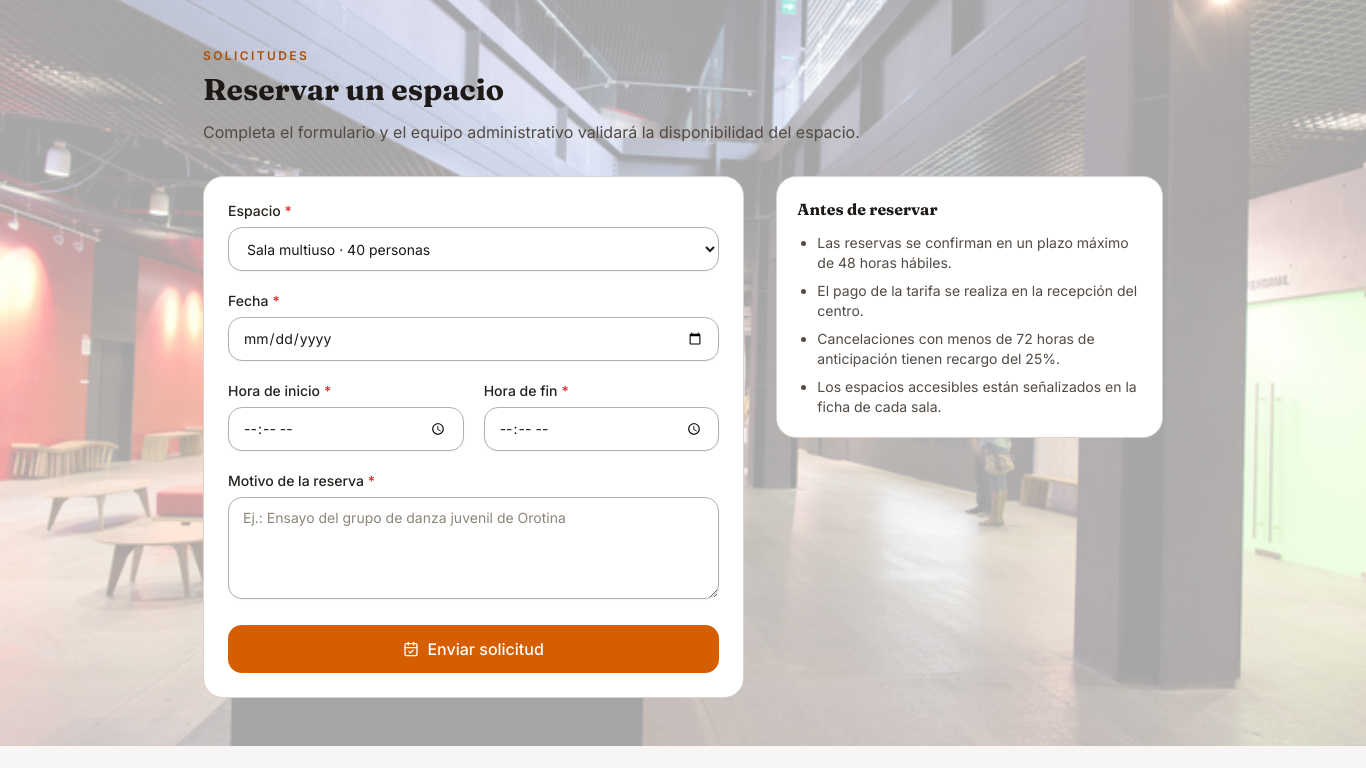
Test: Reservas page › shows the conflict returned by the reservation service
Select "Sala multiuso · 40 personas" in the dropdown labelled "Espacio *". click: [474, 249]
box: [228,227,719,271]
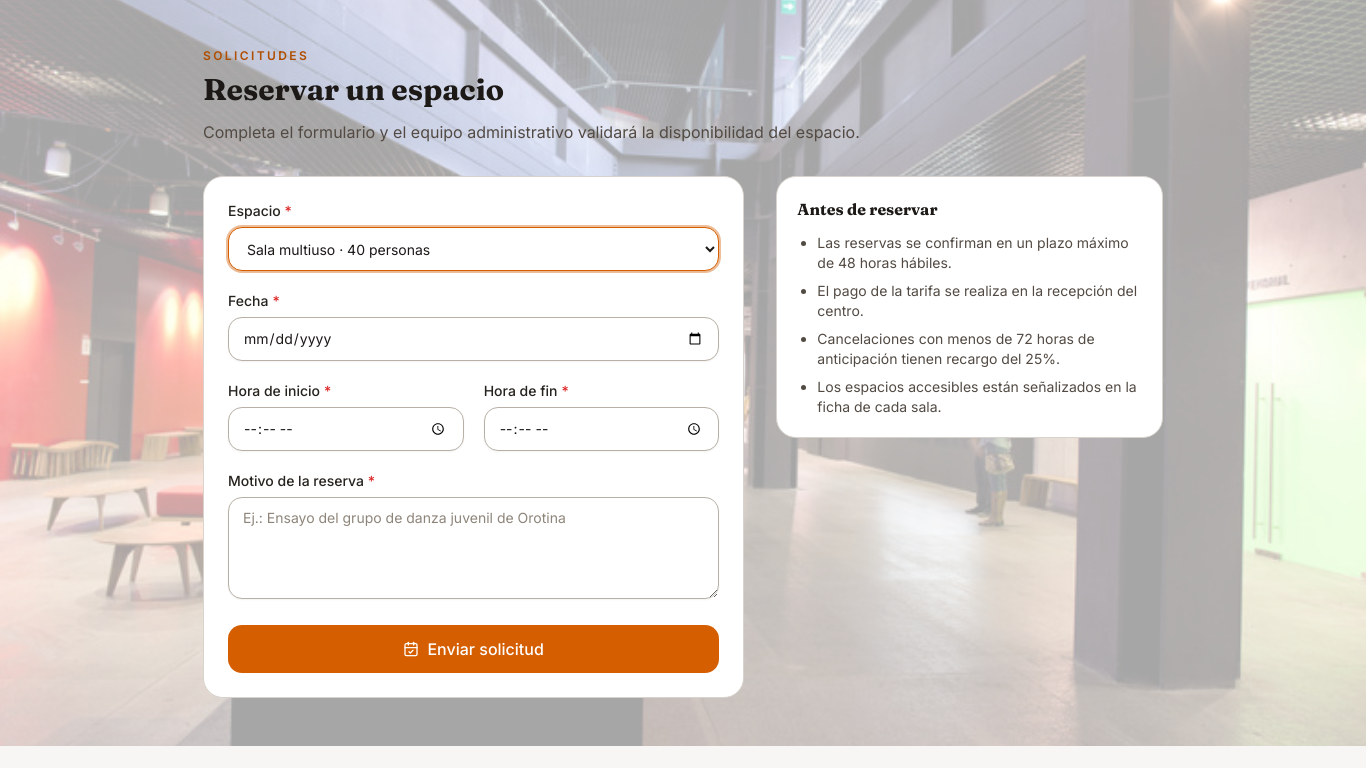
Type "2026-10-12" into the date field labelled "Fecha*". click: [474, 339]
box: [228,317,719,361]
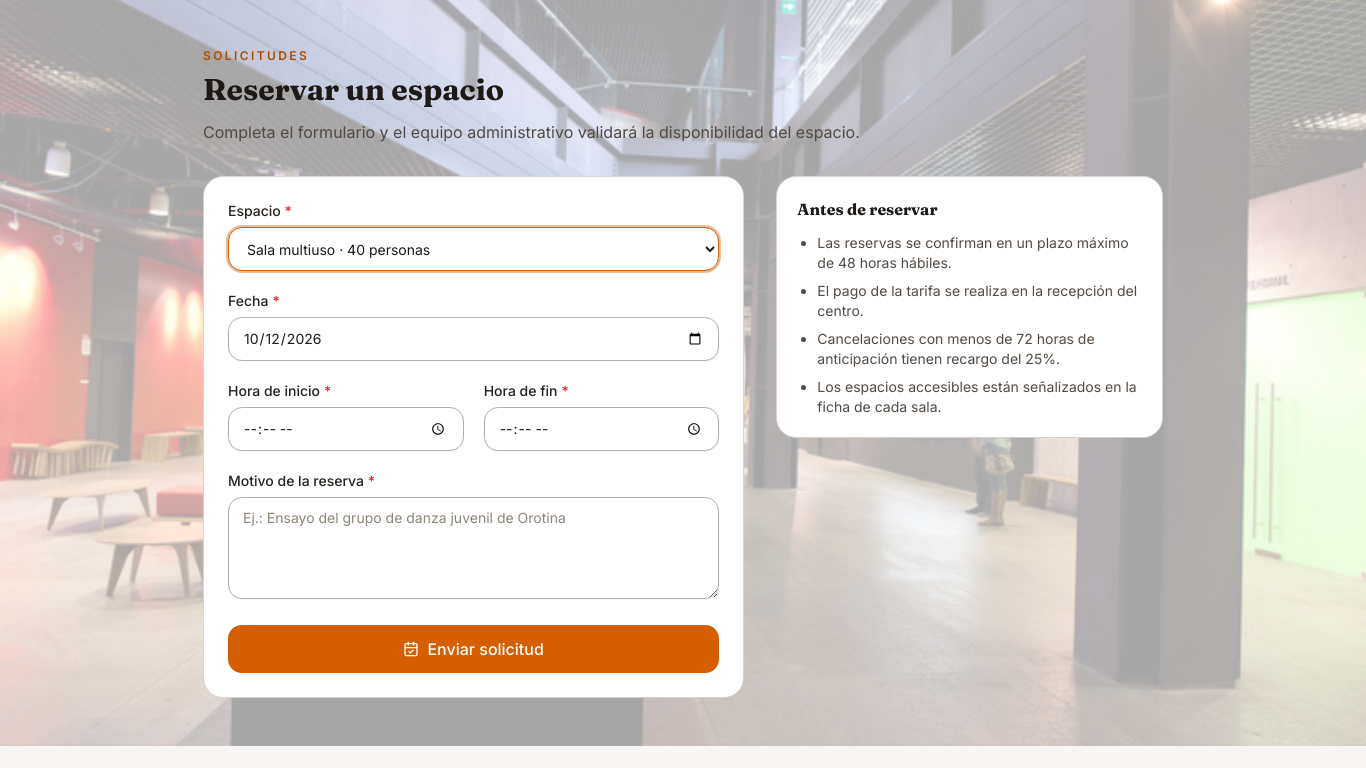
Type "10:00" into the time field labelled "Hora de inicio*". click: [346, 429]
box: [228,407,464,451]
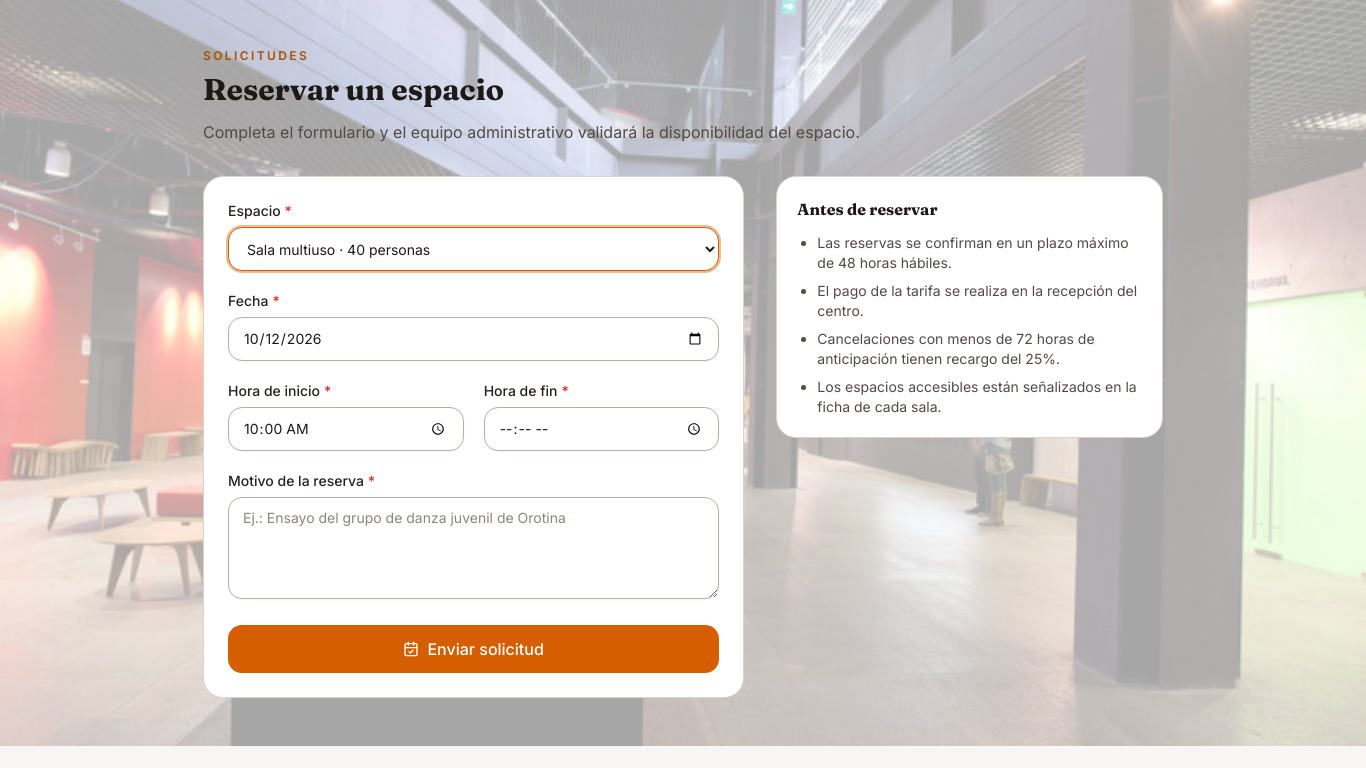
Type "11:00" into the time field labelled "Hora de fin*". click: [602, 429]
box: [484,407,719,451]
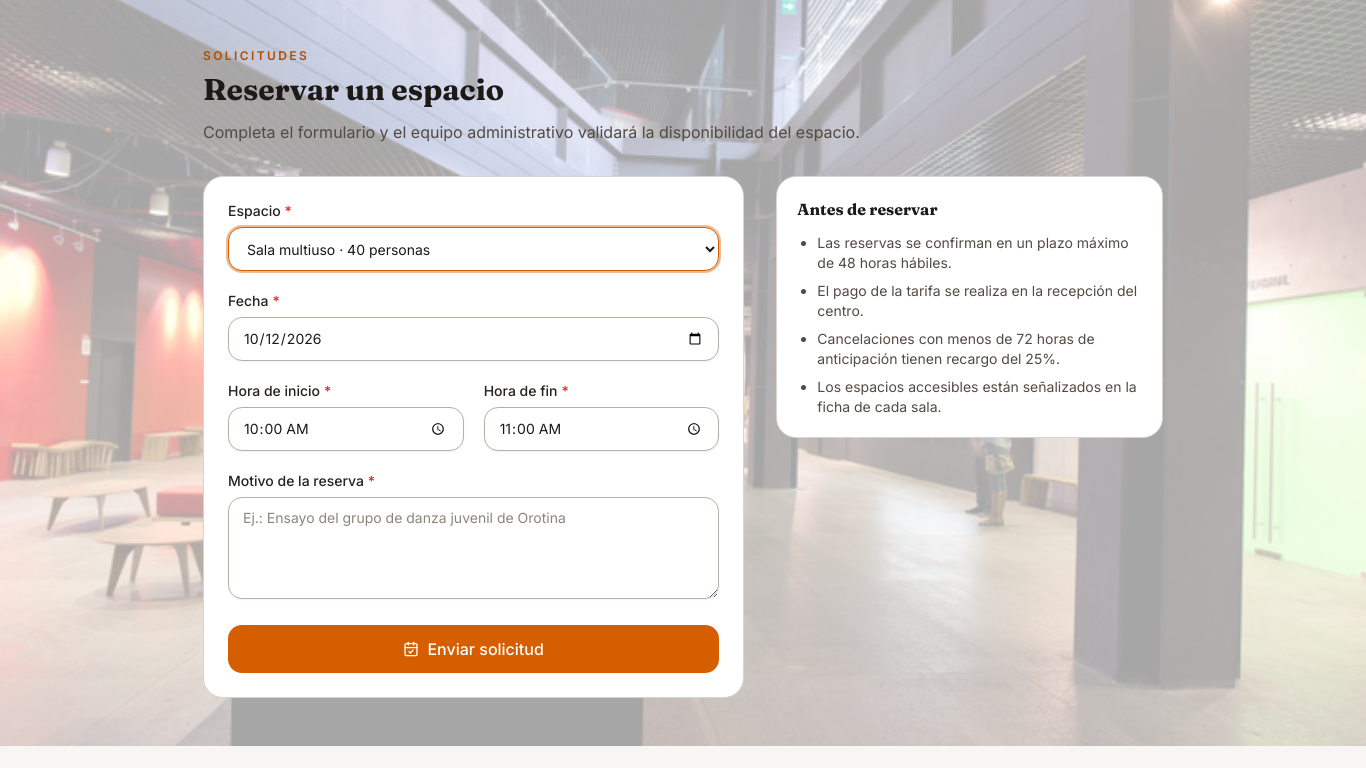
Type "Ensayo del grupo juvenil" into the text box labelled "Motivo de la reserva *". click: [474, 548]
box: [228,497,719,599]
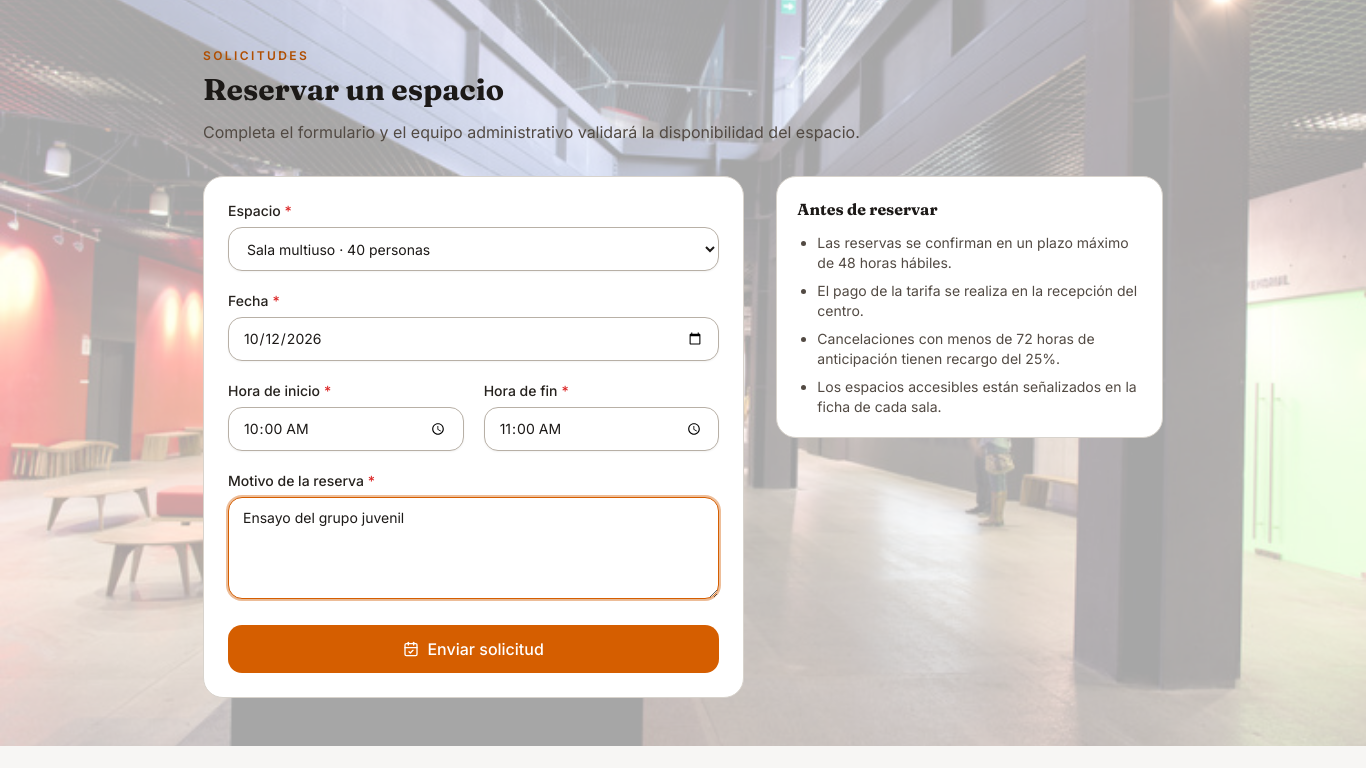
Click the button "Enviar solicitud". click: [474, 649]
box: [228,625,719,673]
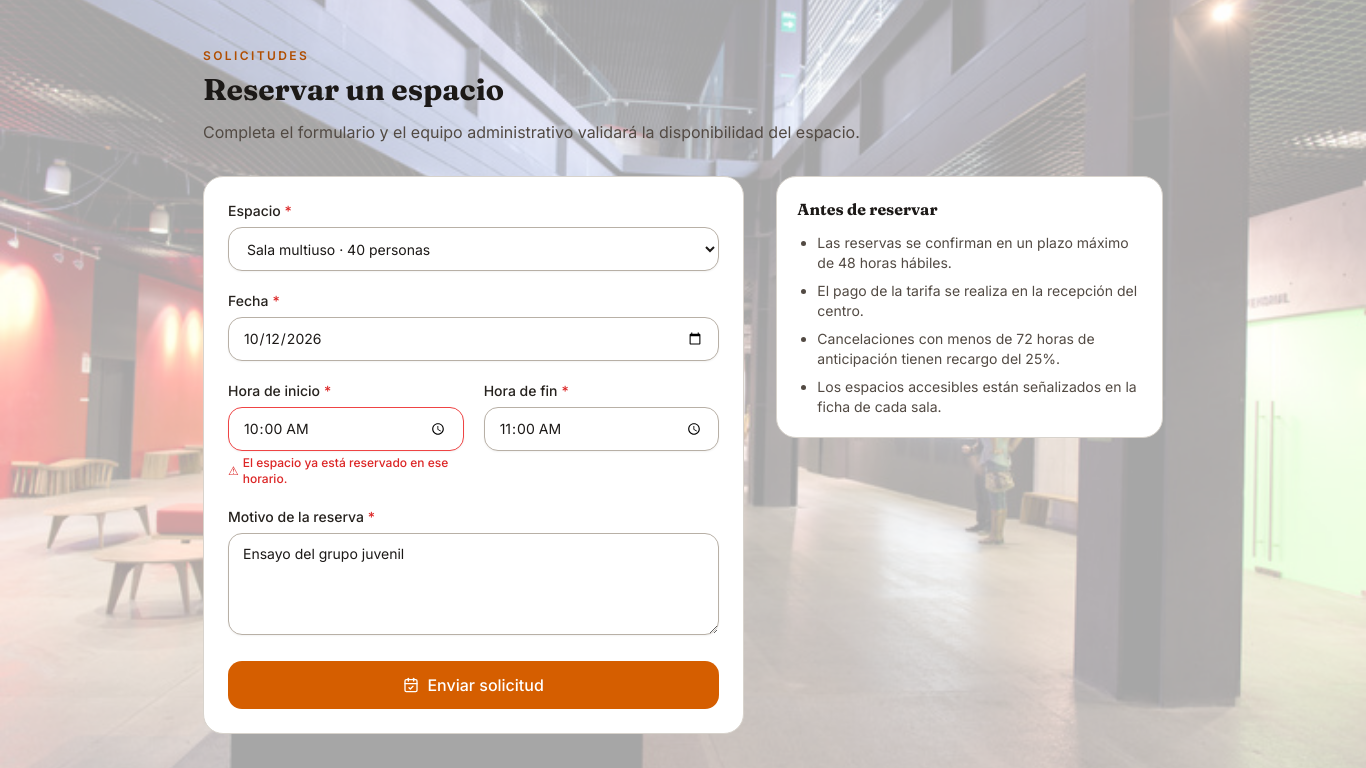
Expected: the message shows "El espacio ya está reservado en ese horario.", [243,455,448,486]
